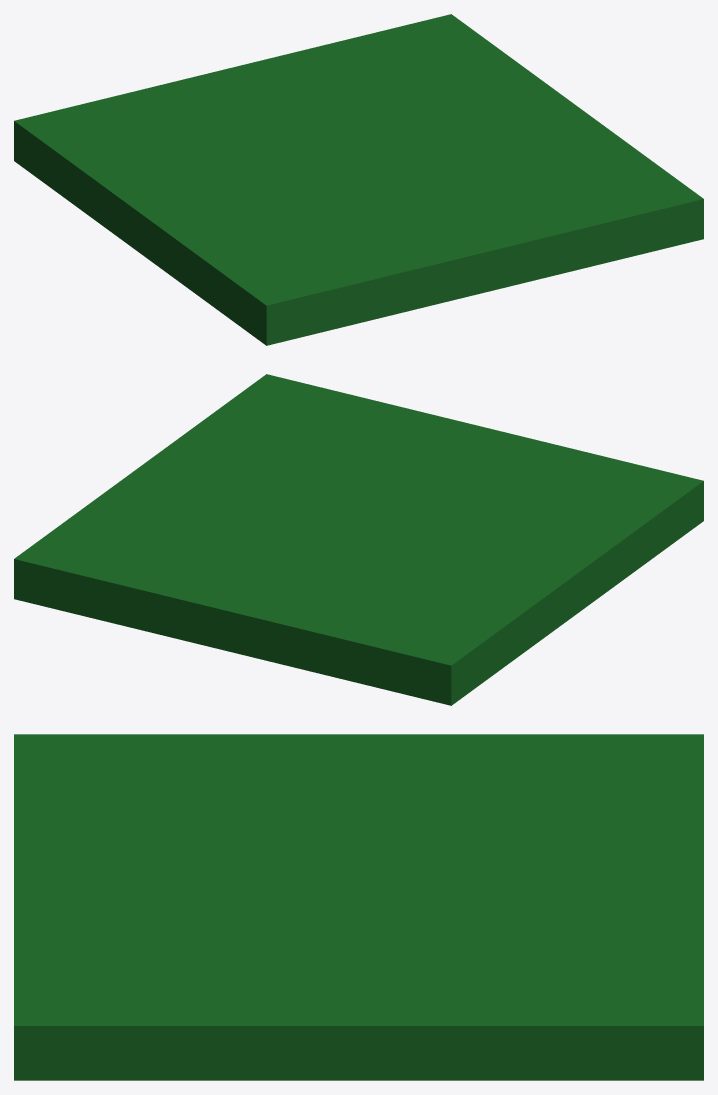
Rendered from grasstile1.glb.
The picture shows the model from 3 angles, top to bottom: view 1: azimuth 30°, elevation 25°; view 2: azimuth 150°, elevation 25°; view 3: azimuth 270°, elevation 25°; orthographic projection. The views are drawn at different scales.
Visible parts, largest first — view 1: road2.001; view 2: road2.001; view 3: road2.001.
Boxes of the visible parts, bbox=[...] form: road2.001: bbox=[14, 14, 703, 345]; road2.001: bbox=[14, 374, 703, 705]; road2.001: bbox=[14, 734, 703, 1080].
Bounding box in the file's own units: 3 × 0.2635 × 3.
